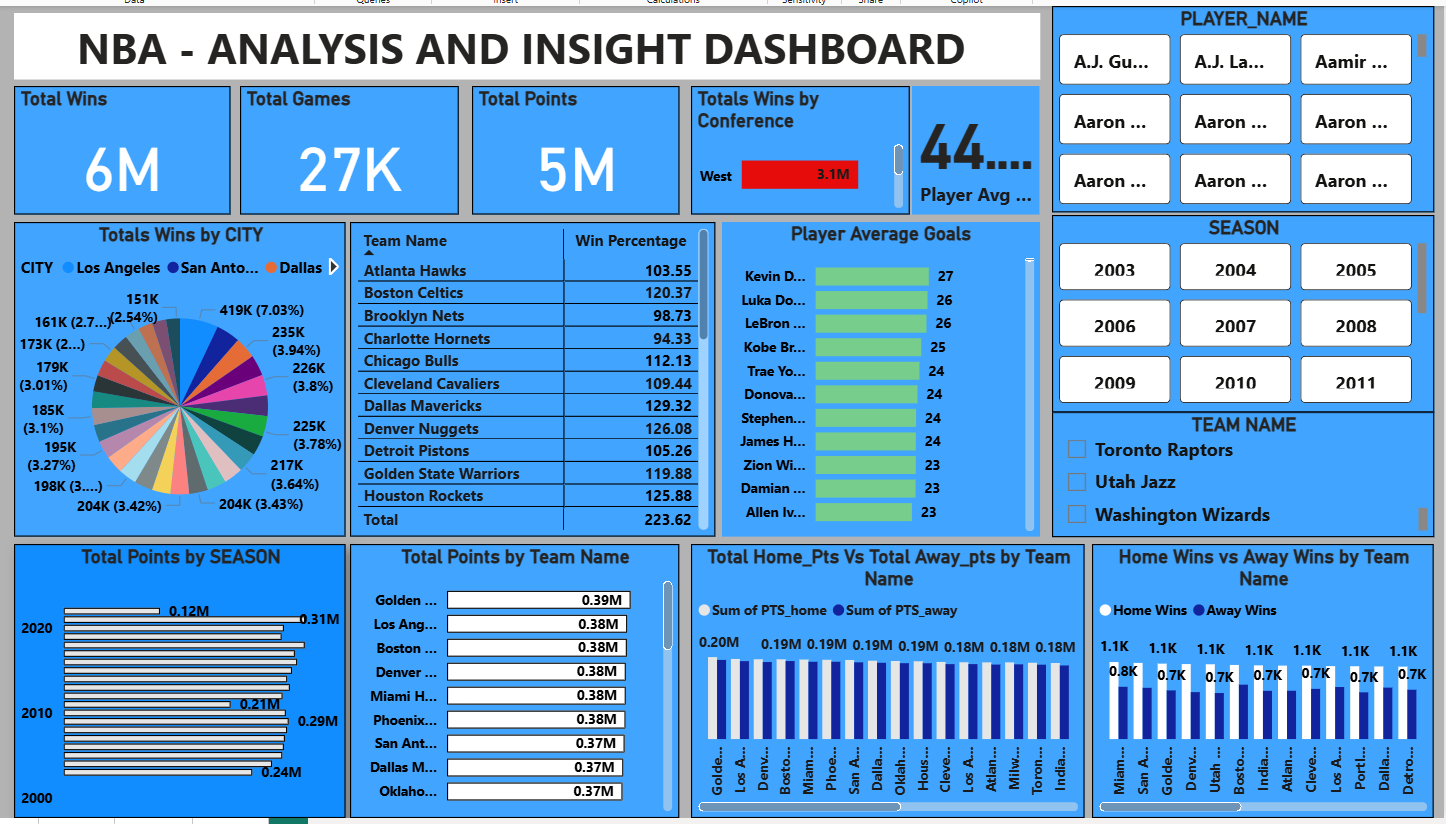

Layout of this report page (visuals, bound fields, positions):
{"tool":"powerbi","page":{"name":"Page 3","canvas":[1280,720],"ordinal":2},"visuals":[{"type":"card","title":"Total Wins","fields":{"Values":["games.Total Wins"]},"box":[12.4,70.9,191.5,114.4],"z":0},{"type":"card","title":"Total Games","fields":{"Values":["games.Total Games"]},"box":[212.8,70.9,194.2,114.4],"z":1000},{"type":"card","title":"Total Points","fields":{"Values":["games.Total Points"]},"box":[418.5,70.9,183.5,114.4],"z":2000},{"type":"barChart","title":"Totals Wins by Conference","fields":{"Category":["ranking.CONFERENCE"],"Y":["teams.Totals Wins"]},"box":[612.7,70.9,194.2,114.4],"z":3000},{"type":"barChart","fields":{"Category":["games.SEASON"],"Y":["games.Total Points"]},"box":[12.4,477,294.4,243],"z":4000},{"type":"barChart","fields":{"Category":["teams.Team Name"],"Y":["games.Total Points"]},"box":[310.3,477,291.7,243],"z":5000},{"type":"clusteredColumnChart","title":"Total  Home_Pts Vs Total Away_pts by Team Name","fields":{"Category":["teams.Team Name"],"Y":["Sum(games.PTS_home)","Sum(games.PTS_away)"]},"box":[612.7,477,349.4,243],"z":6000},{"type":"clusteredColumnChart","title":"Home Wins  vs Away Wins by Team Name","fields":{"Y":["games.Home Wins","games.Away Wins"],"Category":["teams.Team Name"]},"box":[968.3,477,303.3,243],"z":7000},{"type":"pieChart","fields":{"Y":["select","teams.Totals Wins"],"Category":["teams.CITY"]},"box":[12.4,191.5,294.4,279.3],"z":8000},{"type":"tableEx","fields":{"Values":["teams.Team Name","games.Win Percentage"]},"box":[310.3,191.5,323.6,279.3],"z":9000},{"type":"barChart","title":"Player Average Goals","fields":{"Y":["games.Player Avg"],"Category":["games_details.PLAYER_NAME"]},"box":[640.2,191.5,282,279.3],"z":10000},{"type":"slicer","title":"TEAM NAME","fields":{"Values":["teams.Team Name"]},"box":[932.8,360,338.7,110.8],"z":11000},{"type":"advancedSlicerVisual","fields":{"Values":["games.SEASON"]},"box":[932.8,185.3,338.7,174.7],"z":12000},{"type":"advancedSlicerVisual","fields":{"Values":["games_details.PLAYER_NAME"]},"box":[932.8,0,338.7,182.7],"z":13000},{"type":"textbox","box":[12.4,6.2,909.8,58.5],"z":14000},{"type":"card","fields":{"Values":["games.Player Avg AST"]},"box":[808.7,70.9,113.5,114.4],"z":15000}]}

Visuals, with their boxes on the page's 1280x720 design canvas (x1, y1, x2, y2). These are canvas units, not pixel positions in the 1446x824 screenshot, which may show the page scaled, cropped or inside an application window:
"Total Wins" card: bbox=[12, 71, 204, 185]
"Total Games" card: bbox=[213, 71, 407, 185]
"Total Points" card: bbox=[418, 71, 602, 185]
"Totals Wins by Conference" barChart: bbox=[613, 71, 807, 185]
barChart - games.SEASON x games.Total Points: bbox=[12, 477, 307, 720]
barChart - teams.Team Name x games.Total Points: bbox=[310, 477, 602, 720]
"Total  Home_Pts Vs Total Away_pts by Team Name" clusteredColumnChart: bbox=[613, 477, 962, 720]
"Home Wins  vs Away Wins by Team Name" clusteredColumnChart: bbox=[968, 477, 1272, 720]
pieChart - select x teams.Totals Wins: bbox=[12, 192, 307, 471]
tableEx - teams.Team Name x games.Win Percentage: bbox=[310, 192, 634, 471]
"Player Average Goals" barChart: bbox=[640, 192, 922, 471]
"TEAM NAME" slicer: bbox=[933, 360, 1272, 471]
advancedSlicerVisual - games.SEASON: bbox=[933, 185, 1272, 360]
advancedSlicerVisual - games_details.PLAYER_NAME: bbox=[933, 0, 1272, 183]
textbox: bbox=[12, 6, 922, 65]
card - games.Player Avg AST: bbox=[809, 71, 922, 185]
